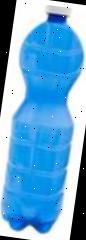plastic: (0, 1, 86, 236)
